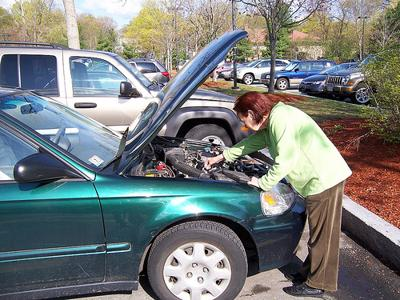person: (204, 93, 352, 295)
